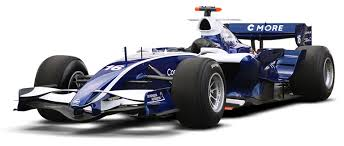FormulaOneCar: (12, 2, 344, 131)
